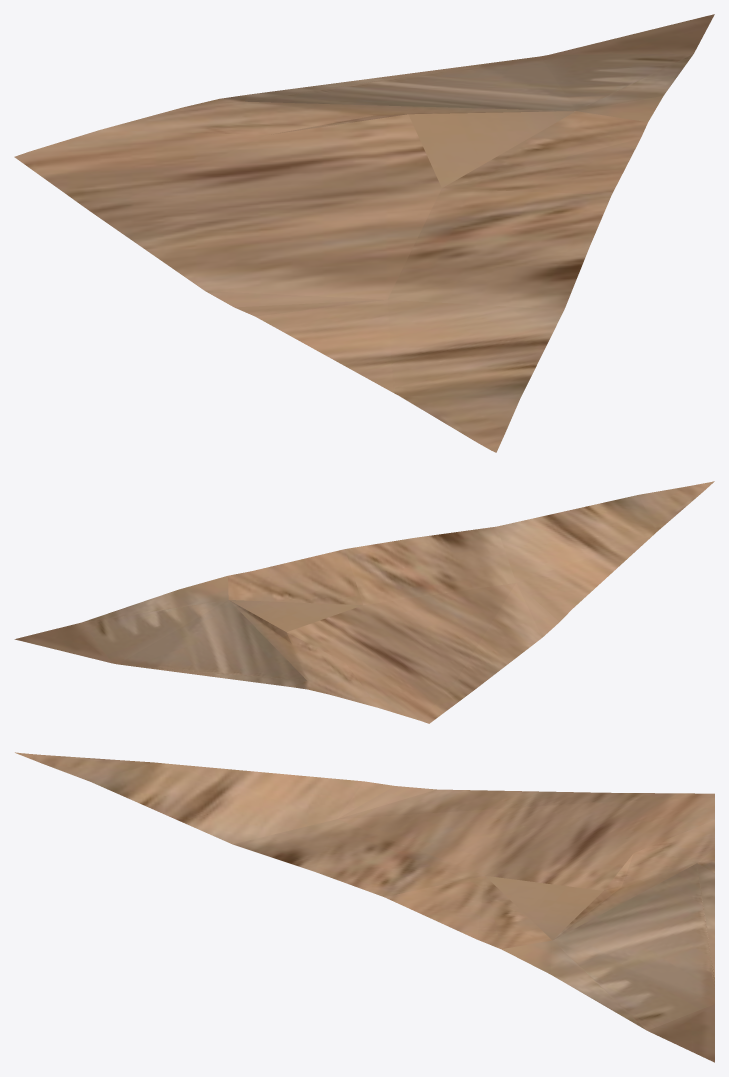
3 renders of one model, top to bottom at view 1: azimuth 30°, elevation 25°; view 2: azimuth 150°, elevation 25°; view 3: azimuth 270°, elevation 25°, orthographic. The views are drawn at different scales.
Bounding box in the file's own units: 1.63 × 0.1897 × 1.94.
1 material, 1 textured.
